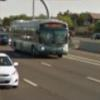buses: (12, 20, 68, 57)
